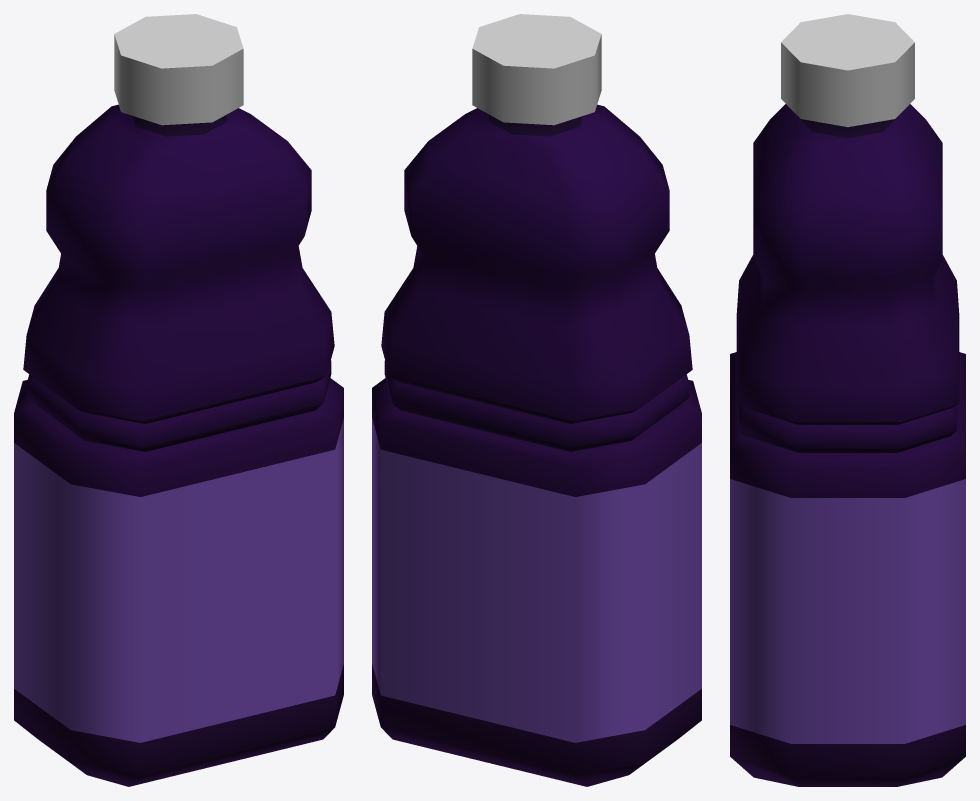
The model's file is JuiceBottle_Medium.fbx.
The picture shows the model from 3 angles, left to right: view 1: azimuth 30°, elevation 25°; view 2: azimuth 150°, elevation 25°; view 3: azimuth 270°, elevation 25°; orthographic projection.
Parts seen in each view (by area): view 1: JuiceBottle_Medium; view 2: JuiceBottle_Medium; view 3: JuiceBottle_Medium.
Boxes of the visible parts, <box> form: JuiceBottle_Medium: <box>14,14,343,786</box>; JuiceBottle_Medium: <box>372,14,701,786</box>; JuiceBottle_Medium: <box>730,14,965,786</box>.
Bounding box in the file's own units: 39.28 × 94.5 × 29.35.
